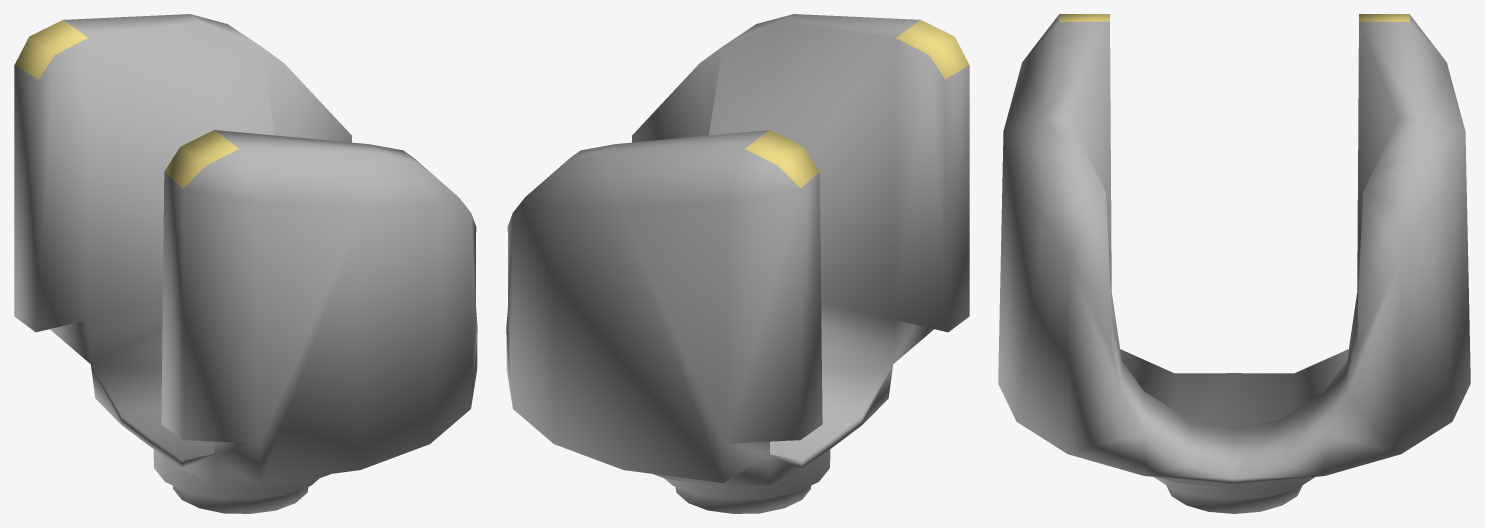
File: COL_hollhollie_021_littlefinger_lr_rot_Coll.dae
The picture shows the model from 3 angles, left to right: view 1: azimuth 30°, elevation 25°; view 2: azimuth 150°, elevation 25°; view 3: azimuth 270°, elevation 25°; orthographic projection.
Visible parts, largest first — view 1: COL_hollhollie_021_littlefinger_lr_rot_Coll; view 2: COL_hollhollie_021_littlefinger_lr_rot_Coll; view 3: COL_hollhollie_021_littlefinger_lr_rot_Coll.
Boxes of the visible parts, bbox=[...] form: COL_hollhollie_021_littlefinger_lr_rot_Coll: bbox=[14, 14, 477, 513]; COL_hollhollie_021_littlefinger_lr_rot_Coll: bbox=[506, 14, 969, 513]; COL_hollhollie_021_littlefinger_lr_rot_Coll: bbox=[998, 14, 1470, 513].
Bounding box in the file's own units: 0.0194 × 0.023 × 0.0225.
